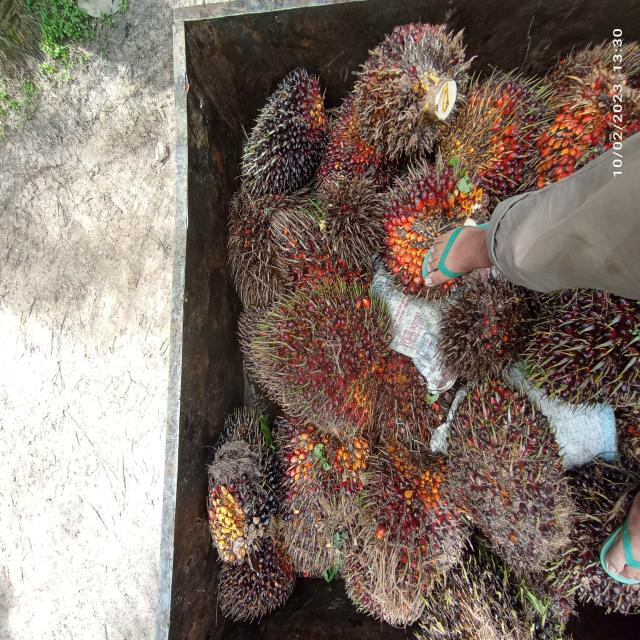fraksi 00: (526, 266, 634, 438), (225, 55, 339, 214), (204, 417, 273, 578), (208, 547, 296, 640)
fraksi 1: (234, 257, 412, 455), (438, 361, 570, 585), (316, 100, 384, 208)
fraksi 3: (371, 156, 474, 320), (378, 455, 476, 577), (440, 79, 535, 201)
fraksi 4: (533, 37, 640, 201), (270, 216, 340, 286)
